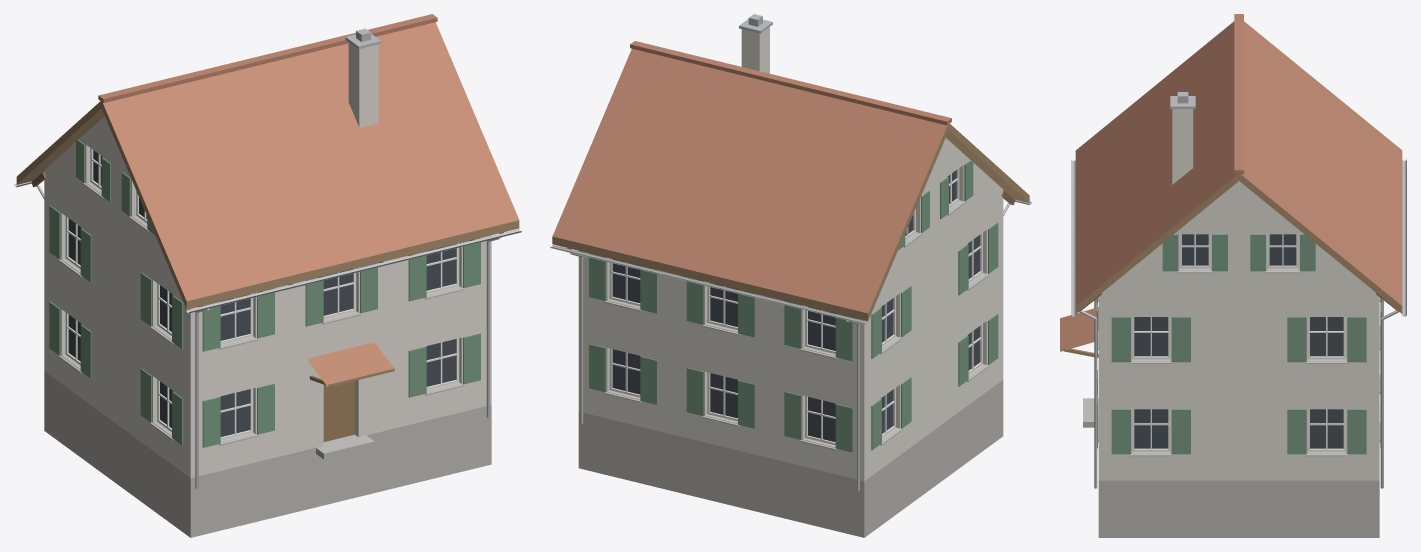
The model's file is house_gable_2_s.glb.
3 renders of one model, left to right at view 1: azimuth 30°, elevation 25°; view 2: azimuth 150°, elevation 25°; view 3: azimuth 270°, elevation 25°, orthographic. The views are drawn at different scales.
Visible parts, largest first — view 1: house_gable_2_s; view 2: house_gable_2_s; view 3: house_gable_2_s.
Part boxes in pixels (<box>): house_gable_2_s: <box>14,14,521,537</box>; house_gable_2_s: <box>550,14,1031,537</box>; house_gable_2_s: <box>1060,14,1406,537</box>.
Size of the model in its own units: 10.54 by 12.7 by 9.88.
